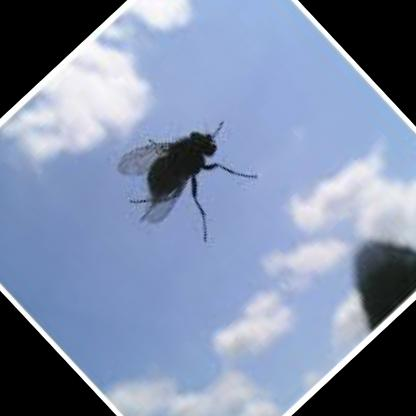other: (86, 76, 274, 264)
